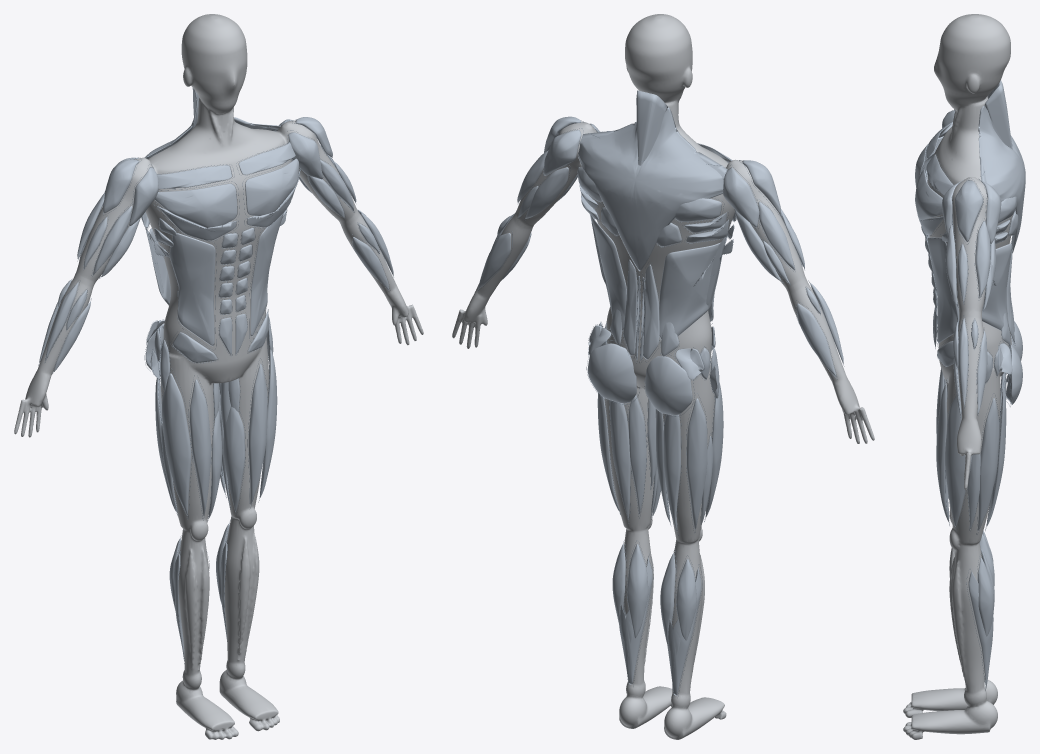
File: mannequin-muscles.glb
The picture shows the model from 3 angles, left to right: view 1: azimuth 30°, elevation 25°; view 2: azimuth 150°, elevation 25°; view 3: azimuth 270°, elevation 25°; orthographic projection. The views are drawn at different scales.
Visible parts, largest first — view 1: Neutral head, joints and tendons, quads · surface, chest · surface, obliques · surface, forearms · surface, biceps · surface, abs · surface, front_delts · surface, side_delts · surface, calves · surface, hamstrings · surface, abductors · surface (+3 smaller); view 2: Neutral head, joints and tendons, traps · surface, hamstrings · surface, calves · surface, lats · surface, glutes · surface, triceps · surface, lower_back · surface, upper_back · surface, forearms · surface, rear_delts · surface, side_delts · surface (+2 smaller); view 3: Neutral head, joints and tendons, traps · surface, hamstrings · surface, quads · surface, chest · surface, calves · surface, obliques · surface, forearms · surface, lats · surface, glutes · surface, triceps · surface, side_delts · surface (+8 smaller).
Boxes of the visible parts, left/top/right/bottom form: Neutral head, joints and tendons: left=14, top=14, right=423, bottom=739; quads · surface: left=162, top=349, right=277, bottom=518; chest · surface: left=154, top=142, right=299, bottom=240; obliques · surface: left=154, top=209, right=286, bottom=362; forearms · surface: left=39, top=210, right=393, bottom=371; biceps · surface: left=93, top=160, right=353, bottom=277; abs · surface: left=219, top=228, right=254, bottom=355; front_delts · surface: left=129, top=132, right=322, bottom=225; side_delts · surface: left=103, top=117, right=332, bottom=213; calves · surface: left=169, top=523, right=229, bottom=660; hamstrings · surface: left=155, top=378, right=225, bottom=511; abductors · surface: left=154, top=316, right=273, bottom=391; Neutral head, joints and tendons: left=452, top=14, right=874, bottom=739; traps · surface: left=578, top=90, right=727, bottom=271; hamstrings · surface: left=597, top=393, right=713, bottom=531; calves · surface: left=612, top=543, right=701, bottom=695; lats · surface: left=589, top=214, right=726, bottom=339; glutes · surface: left=587, top=325, right=717, bottom=415; triceps · surface: left=517, top=150, right=794, bottom=283; lower_back · surface: left=610, top=259, right=678, bottom=360; upper_back · surface: left=577, top=167, right=729, bottom=246; forearms · surface: left=478, top=213, right=843, bottom=376; rear_delts · surface: left=543, top=130, right=759, bottom=227; side_delts · surface: left=544, top=116, right=780, bottom=213; Neutral head, joints and tendons: left=903, top=14, right=1013, bottom=739; traps · surface: left=978, top=80, right=1025, bottom=253; hamstrings · surface: left=968, top=373, right=1006, bottom=530; quads · surface: left=936, top=368, right=972, bottom=526; chest · surface: left=915, top=122, right=953, bottom=234; calves · surface: left=968, top=531, right=994, bottom=688; obliques · surface: left=927, top=232, right=959, bottom=366; forearms · surface: left=953, top=318, right=987, bottom=415; lats · surface: left=982, top=243, right=1011, bottom=330; glutes · surface: left=999, top=321, right=1022, bottom=404; triceps · surface: left=975, top=221, right=995, bottom=309; side_delts · surface: left=955, top=180, right=983, bottom=241.
Size of the model in its own units: 1.11 by 1.79 by 0.2812.
